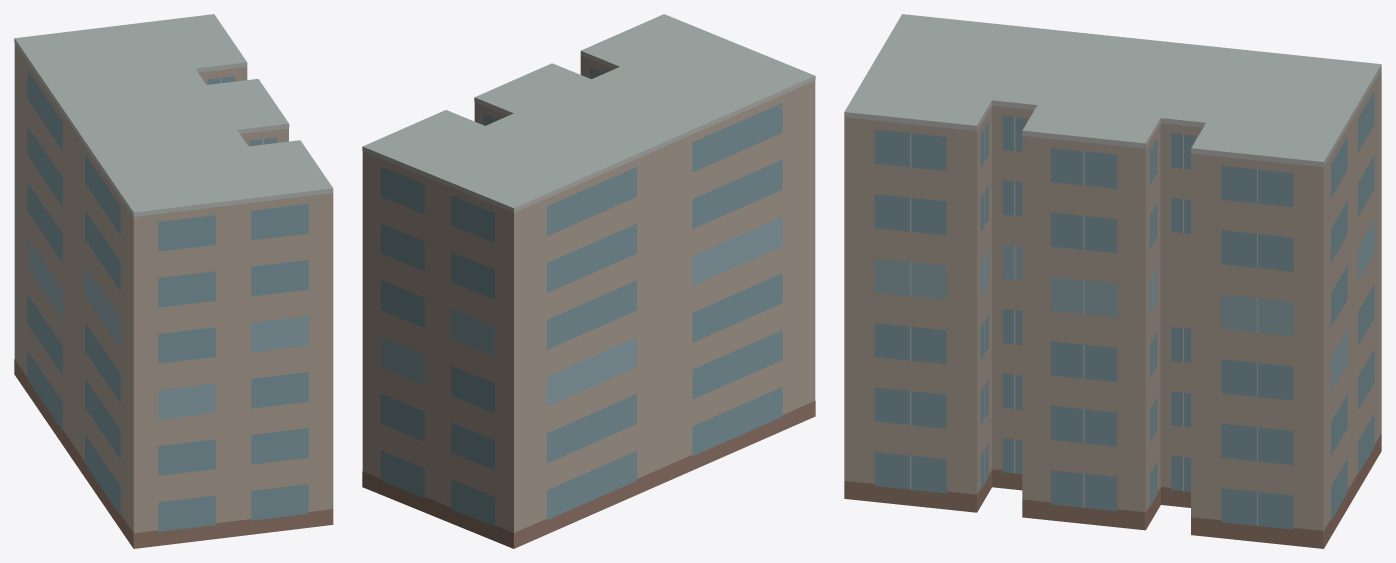
Rendered from survey-upis-32889764.glb.
3 renders of one model, left to right at view 1: azimuth 30°, elevation 25°; view 2: azimuth 150°, elevation 25°; view 3: azimuth 270°, elevation 25°, orthographic. The views are drawn at different scales.
Parts seen in each view (by area): view 1: survey-upis-32889764.tmp; view 2: survey-upis-32889764.tmp; view 3: survey-upis-32889764.tmp.
Part boxes in pixels (left/top/right/bottom): survey-upis-32889764.tmp: left=14, top=14, right=333, bottom=548; survey-upis-32889764.tmp: left=362, top=14, right=815, bottom=548; survey-upis-32889764.tmp: left=844, top=14, right=1381, bottom=548.
Bounding box in the file's own units: 14.66 × 17.85 × 22.48.
